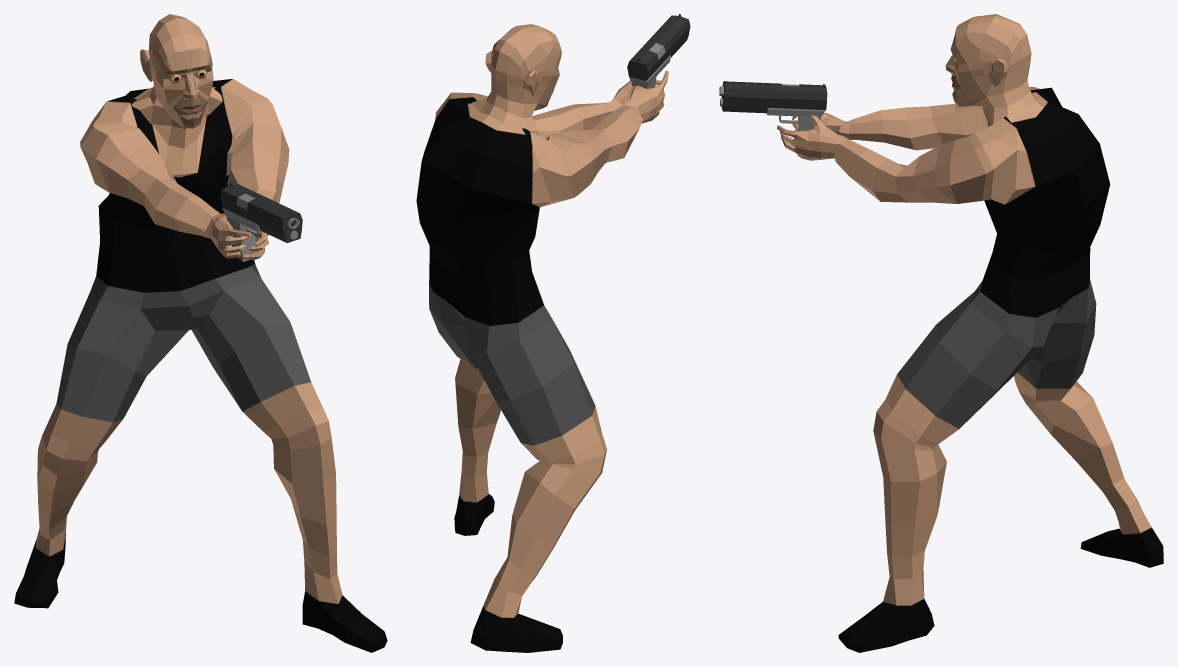
Rendered from PlayerShoot(18).obj.
3 views of the same model, side by side, from view 1: azimuth 30°, elevation 25°; view 2: azimuth 150°, elevation 25°; view 3: azimuth 270°, elevation 25° (orthographic). The views are drawn at different scales.
Parts seen in each view (by area): view 1: Plane002, Box003; view 2: Plane002, Box003; view 3: Plane002, Box003.
Part boxes in pixels (x1,y1,x2,y2): Plane002: (14, 14, 387, 652); Box003: (220, 182, 302, 261); Plane002: (416, 24, 668, 652); Box003: (627, 14, 690, 88); Plane002: (777, 14, 1163, 652); Box003: (719, 81, 827, 130).
Size of the model in its own units: 719 by 1667 by 1172.
